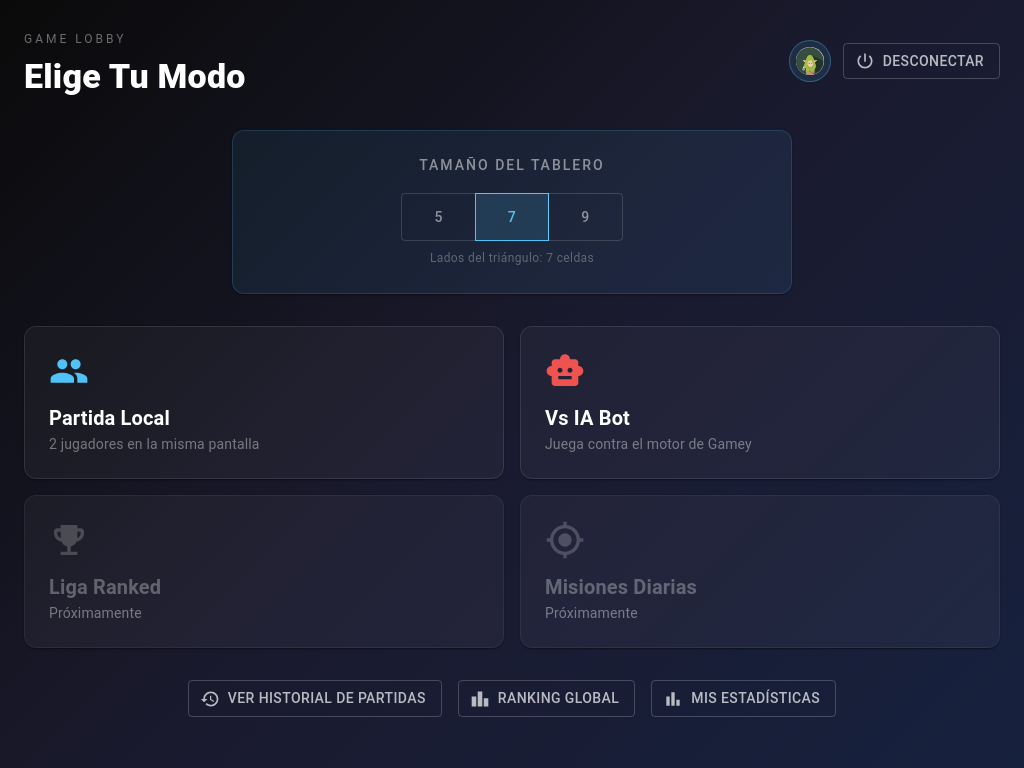
Test: Menu board size selection › toggles the active size button between 5, 7, and 9
This screenshot has width=1024, height=768.
What coordinates should you click on to do the following:
click the button "5"
I would click on:
 (439, 217)
Its box is 402,193 -> 476,241.
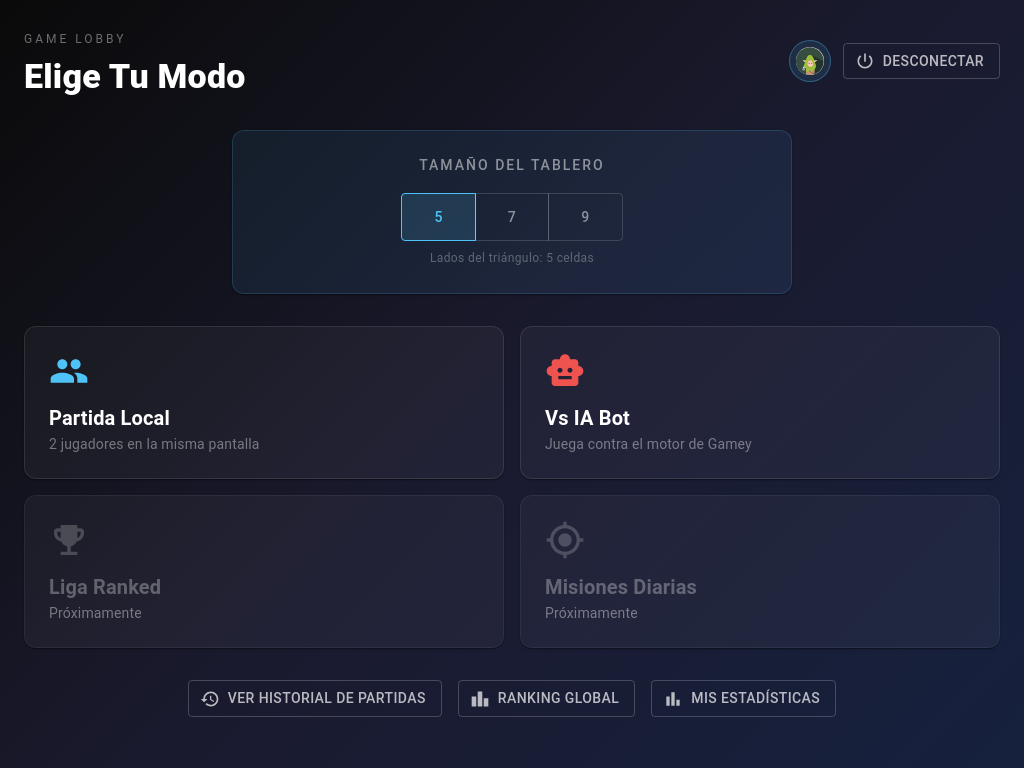
Expected: the text "Lados del triángulo: 5 celdas" is shown, 430,251 -> 594,265
What coordinates should you click on to do the following:
click the button "9"
I would click on:
 (585, 217)
Its box is 548,193 -> 623,241.
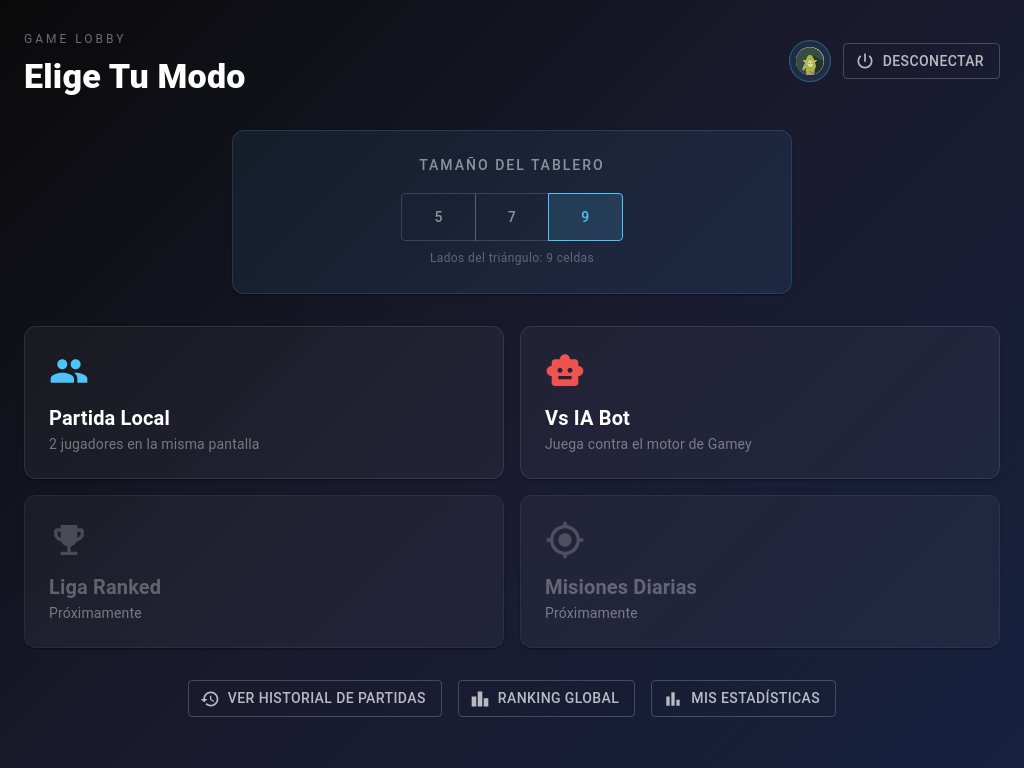
Expected: the text "Lados del triángulo: 9 celdas" is shown, 430,251 -> 594,265
